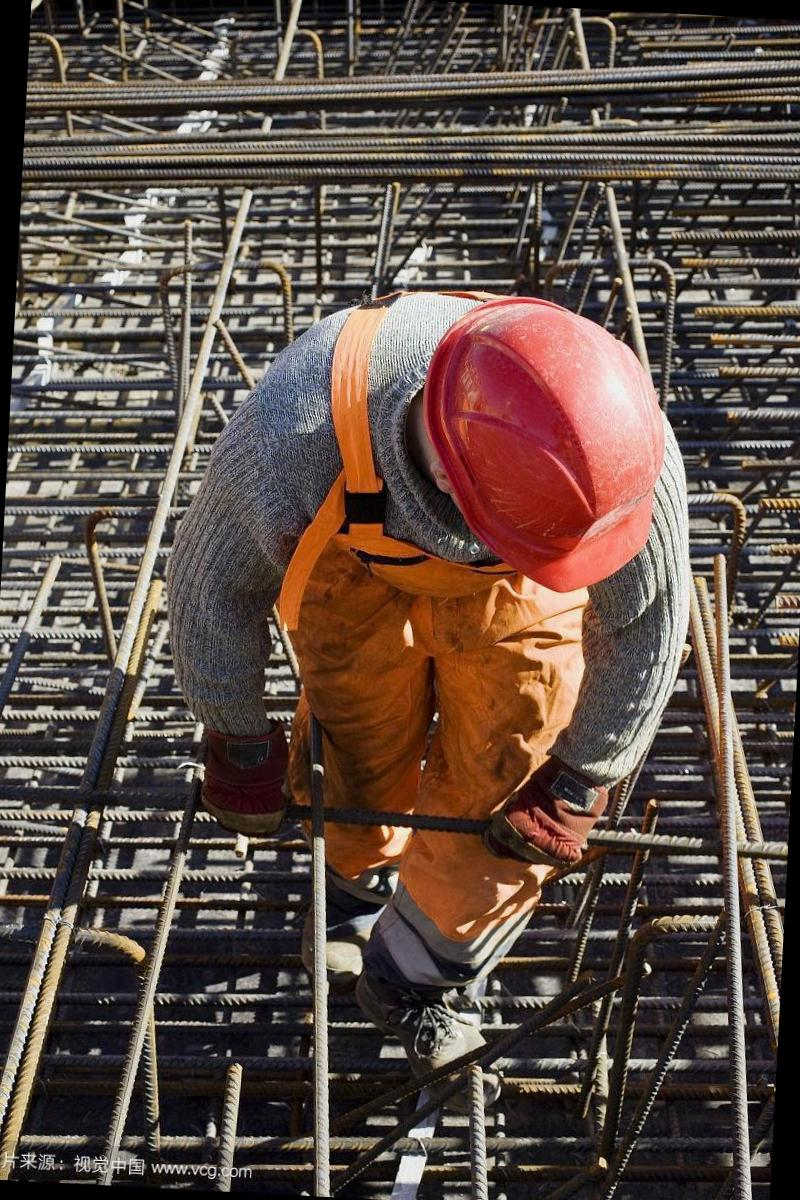helmet: (401, 296, 678, 610)
person: (127, 250, 738, 1086)
